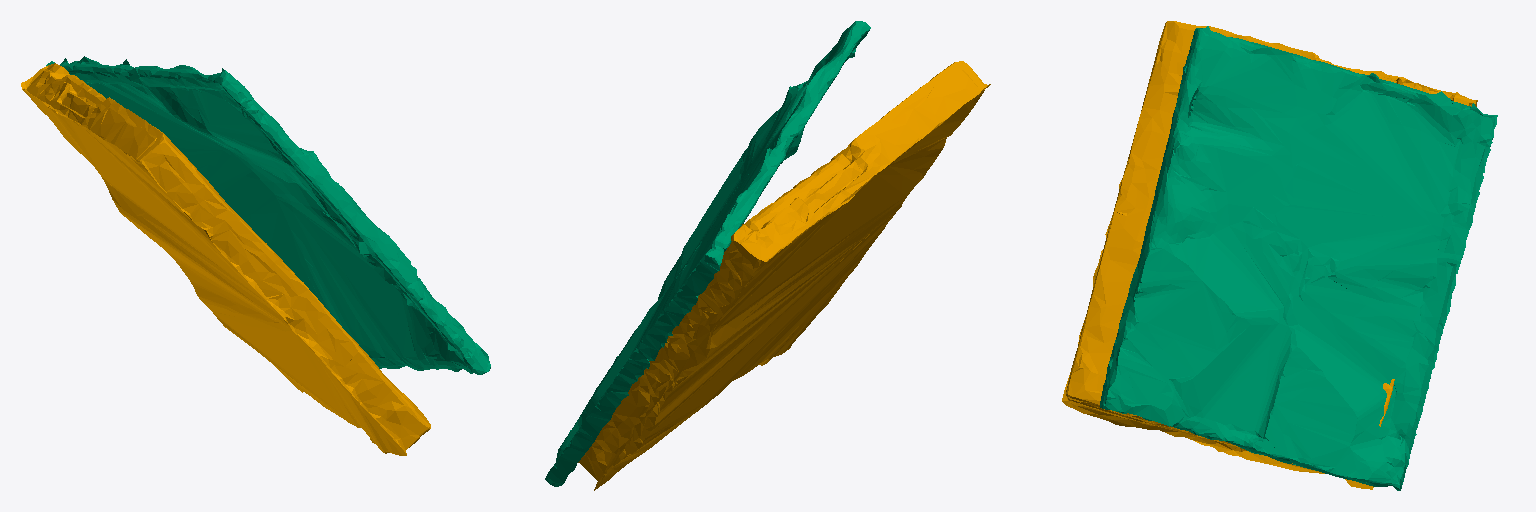
The robot description file, URDF, robot "laptop":
<?xml version="1.0"?>
<robot name="laptop">
  <link name ="rb0">
    <visual>
      <origin xyz='0.058927 -0.090175 -0.151480' rpy='-0.726852 0.490066 1.157193'/>
      <geometry>
        <mesh filename="package://articulated_objects_db/data/objects/laptop/meshes/laptop_bottom.obj"  scale="1 1 1" />
      </geometry>
    </visual>
  </link>
  <joint name="j_0_1" type="revolute">
    <parent link="rb0"/>
    <child link="rb1"/>
    <origin xyz="0.180232991643 -0.000376197883956 -0.253333755529" rpy="0 0 0 "/>
    <axis xyz="-0.567047826018 0.228690873501 0.791300984068"/>
    <limit effort="30" velocity="1.0" lower="-3.1416" upper="3.1416"/>
  </joint>
  <joint name="j_0_fixed" type="fixed">
    <parent link="rb1"/>
    <child link="rb1_marker"/>
      <origin xyz="0.0263087083051 -0.133982253486 0.0573061278332" rpy="0.595515271901 -0.905902094014 2.78683164842"/>
    <limit effort="30" velocity="1.0" lower="-3.1416" upper="3.1416"/>
  </joint>
  <link name ="rb1">
  </link>
  <link name ="rb1_marker">
    <visual>
      <origin xyz='0.118160 -0.188569 -0.004876' rpy='0.135739 -1.170886 3.003704'/>
      <geometry>
        <mesh filename="package://articulated_objects_db/data/objects/laptop/meshes/laptop_top.obj"  scale="1 1 1" />
      </geometry>
    </visual>
  </link>
</robot>

--- Facts derived from the render (not from the file) ---
3 views of the same robot in one strip: view 1: azimuth 30°, elevation 25°; view 2: azimuth 150°, elevation 25°; view 3: azimuth 270°, elevation 25° (orthographic).
Model laptop with 3 links and 2 joints (1 revolute, 1 fixed), rooted at rb0, posed every joint at zero.
Links seen in each view (by area): view 1: rb1_marker, rb0; view 2: rb0, rb1_marker; view 3: rb1_marker, rb0.
Boxes of the visible links, x1=… form: rb1_marker: x1=46, y1=56, x2=490, y2=374; rb0: x1=21, y1=63, x2=430, y2=455; rb0: x1=578, y1=61, x2=990, y2=490; rb1_marker: x1=545, y1=21, x2=870, y2=486; rb1_marker: x1=1100, y1=26, x2=1497, y2=490; rb0: x1=1062, y1=21, x2=1477, y2=489.
Size in the robot's own frame: 0.2545 by 0.3222 by 0.3191 metres.
Meshes: 2 distinct files referenced, 2 mesh visuals loaded (2 OBJ).